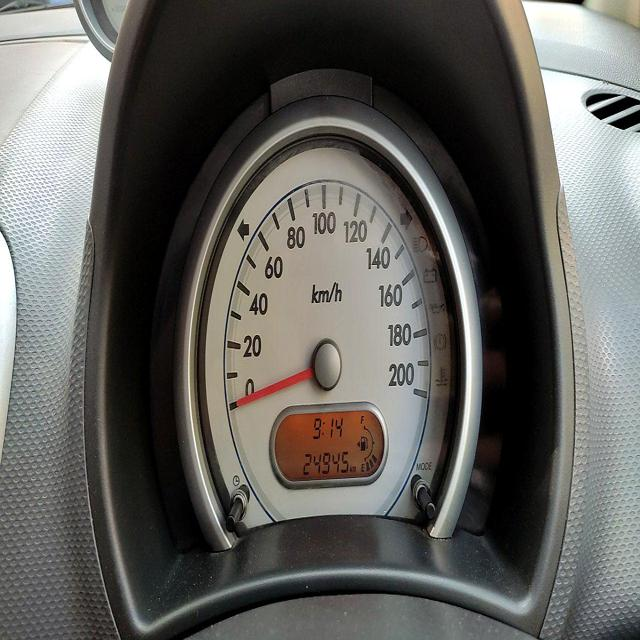odometer: (302, 449, 349, 479)
